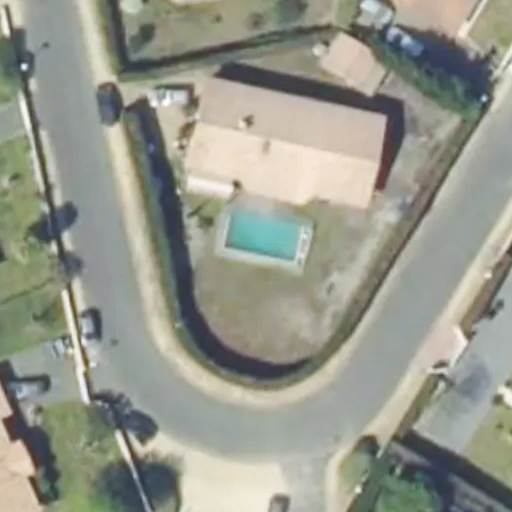pool: (220, 212, 309, 267)
